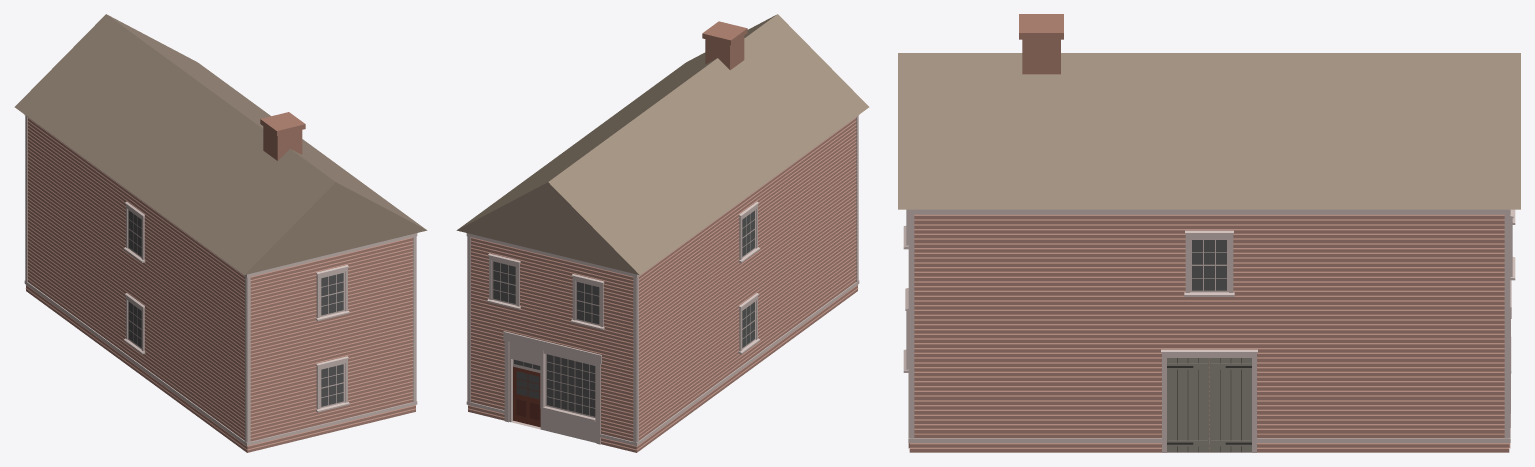
File: recon_1835_blk_south_water_dearborn_c3_02__inferred_1835.glb
3 views of the same model, side by side, from view 1: azimuth 30°, elevation 25°; view 2: azimuth 150°, elevation 25°; view 3: azimuth 270°, elevation 25° (orthographic). The views are drawn at different scales.
Visible parts, largest first — view 1: recon_1835_blk_south_water_dearborn_c3_02__inferred_1835; view 2: recon_1835_blk_south_water_dearborn_c3_02__inferred_1835; view 3: recon_1835_blk_south_water_dearborn_c3_02__inferred_1835.
Boxes of the visible parts, bbox=[...] form: recon_1835_blk_south_water_dearborn_c3_02__inferred_1835: bbox=[14, 14, 427, 452]; recon_1835_blk_south_water_dearborn_c3_02__inferred_1835: bbox=[456, 14, 869, 452]; recon_1835_blk_south_water_dearborn_c3_02__inferred_1835: bbox=[898, 14, 1520, 452].
Size of the model in its own units: 6.24 by 8.94 by 13.53.
